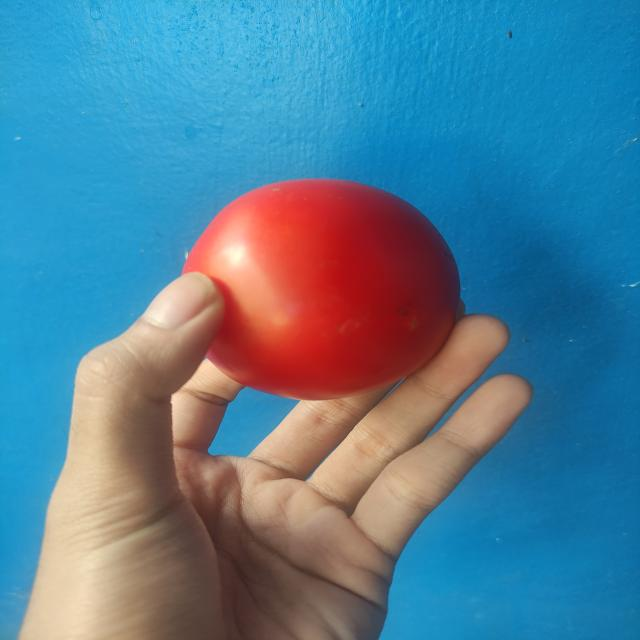ripe tomato: (172, 166, 464, 408)
